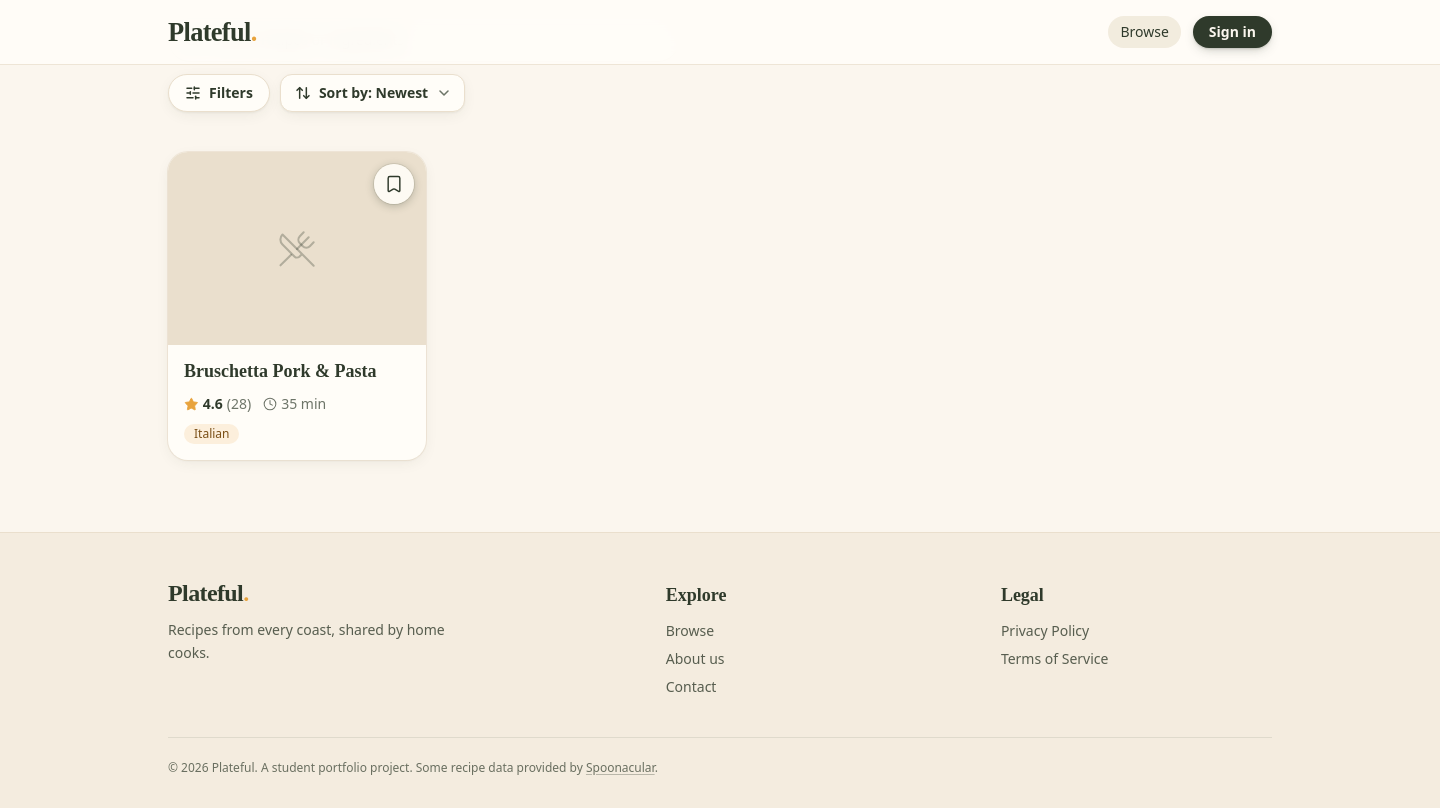
Scenario: footer › the footer link "Contact" opens the Contact us page
(page scrolled)
What coordinates should you click on to do the following:
click the link "Contact"
I would click on:
 (691, 687)
Its box is x1=666 y1=677 x2=716 y2=696.
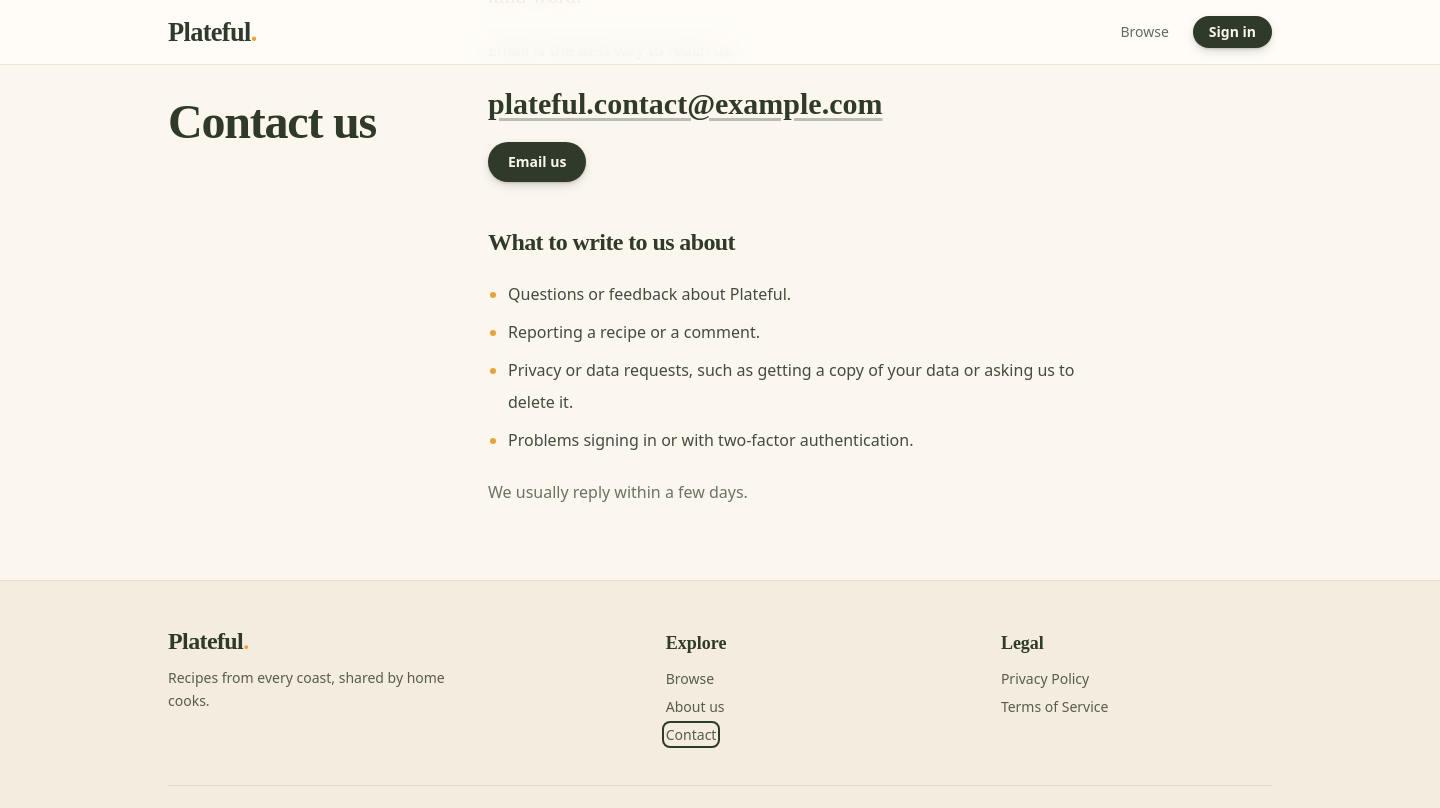
Now the heading "Contact us" is shown, box x1=168 y1=95 x2=376 y2=148
